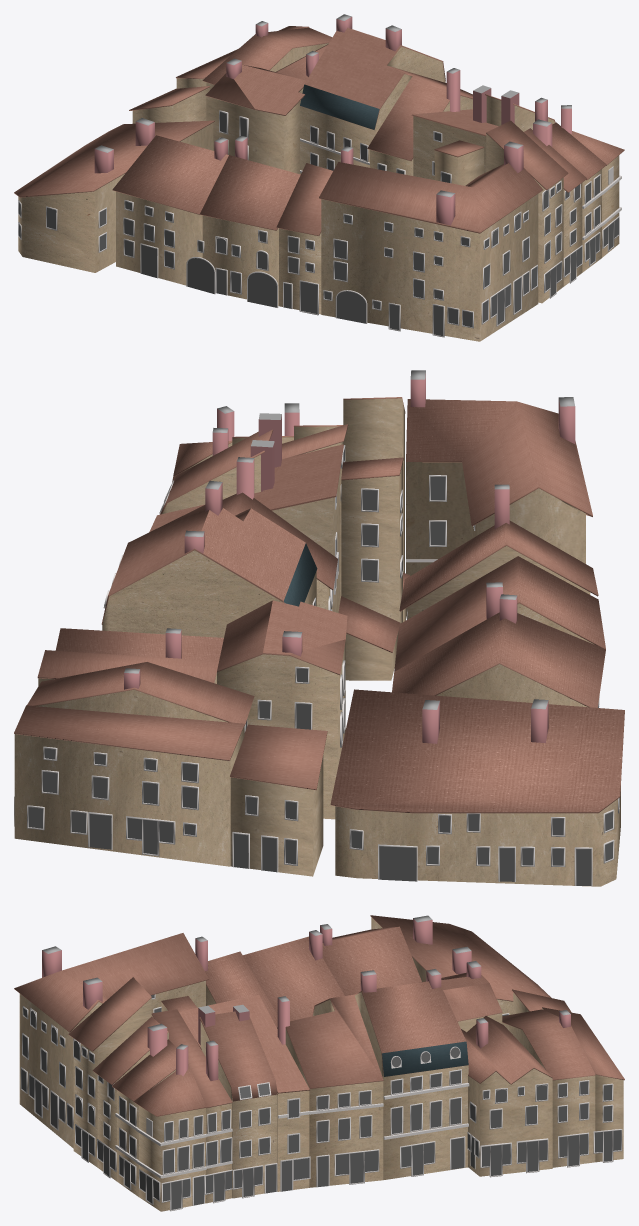
File: ilot41combine.fbx
3 renders of one model, top to bottom at view 1: azimuth 30°, elevation 25°; view 2: azimuth 150°, elevation 25°; view 3: azimuth 270°, elevation 25°, orthographic. The views are drawn at different scales.
Visible parts, largest first — view 1: _ILOT41BAT5, _ILOT41BAT1, _ILOT41BAT9, _ILOT41BAT8, _ILOT41BAT7, _ILOT41BAT3, _ILOT41BAT6, _ILOT41BAT16, _ILOT41BAT2, _ILOT41BAT11, _ILOT41BAT21, _ILOT41BAT17 (+6 smaller); view 2: _ILOT41BAT9, _ILOT41BAT18, _ILOT41BAT5, _ILOT41BAT1, _ILOT41BAT3, _ILOT41BAT8, _ILOT41BAT10, _ILOT41BAT7, _ILOT41BAT4, _ILOT41BAT11, _ILOT41BAT2, _ILOT41BAT6 (+7 smaller); view 3: _ILOT41BAT1, _ILOT41BAT5, _ILOT41BAT12, _ILOT41BAT19, _ILOT41BAT13, _ILOT41BAT11, _ILOT41BAT2, _ILOT41BAT16, _ILOT41BAT9, _ILOT41BAT20, _ILOT41BAT7, _ILOT41BAT8 (+7 smaller).
Boxes of the visible parts, x1,y1,x2,y2 form: _ILOT41BAT5: [319, 141, 543, 341]; _ILOT41BAT1: [300, 14, 472, 175]; _ILOT41BAT9: [14, 118, 214, 272]; _ILOT41BAT8: [112, 135, 228, 294]; _ILOT41BAT7: [200, 135, 300, 307]; _ILOT41BAT3: [205, 58, 305, 174]; _ILOT41BAT6: [276, 146, 353, 315]; _ILOT41BAT16: [486, 120, 568, 303]; _ILOT41BAT2: [411, 85, 519, 179]; _ILOT41BAT11: [202, 21, 332, 89]; _ILOT41BAT21: [552, 122, 606, 272]; _ILOT41BAT17: [524, 119, 586, 286]; _ILOT41BAT9: [330, 689, 624, 886]; _ILOT41BAT18: [14, 705, 244, 866]; _ILOT41BAT5: [406, 370, 592, 611]; _ILOT41BAT1: [101, 457, 337, 637]; _ILOT41BAT3: [217, 600, 347, 819]; _ILOT41BAT8: [392, 594, 605, 707]; _ILOT41BAT10: [230, 724, 327, 876]; _ILOT41BAT7: [394, 556, 605, 671]; _ILOT41BAT4: [341, 457, 403, 623]; _ILOT41BAT11: [27, 662, 254, 732]; _ILOT41BAT2: [149, 413, 343, 612]; _ILOT41BAT6: [399, 484, 598, 619]; _ILOT41BAT1: [277, 969, 469, 1187]; _ILOT41BAT5: [14, 933, 208, 1148]; _ILOT41BAT12: [461, 1016, 552, 1177]; _ILOT41BAT19: [134, 1044, 206, 1211]; _ILOT41BAT13: [199, 1011, 277, 1198]; _ILOT41BAT11: [502, 1009, 595, 1167]; _ILOT41BAT2: [179, 995, 310, 1191]; _ILOT41BAT16: [68, 977, 151, 1167]; _ILOT41BAT9: [370, 915, 551, 1016]; _ILOT41BAT20: [151, 1009, 232, 1203]; _ILOT41BAT7: [243, 930, 344, 1021]; _ILOT41BAT8: [320, 924, 421, 995].
Bounding box in the file's own units: 9.93 × 3.67 × 11.06.
